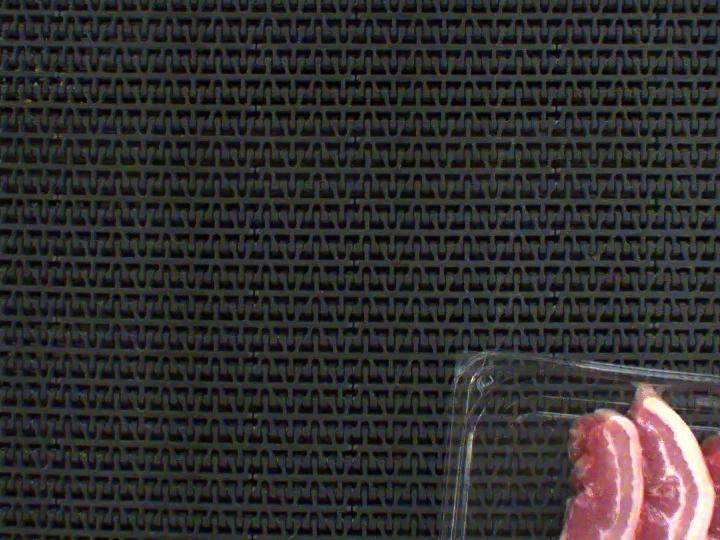packaging-error: (630, 369, 671, 399)
